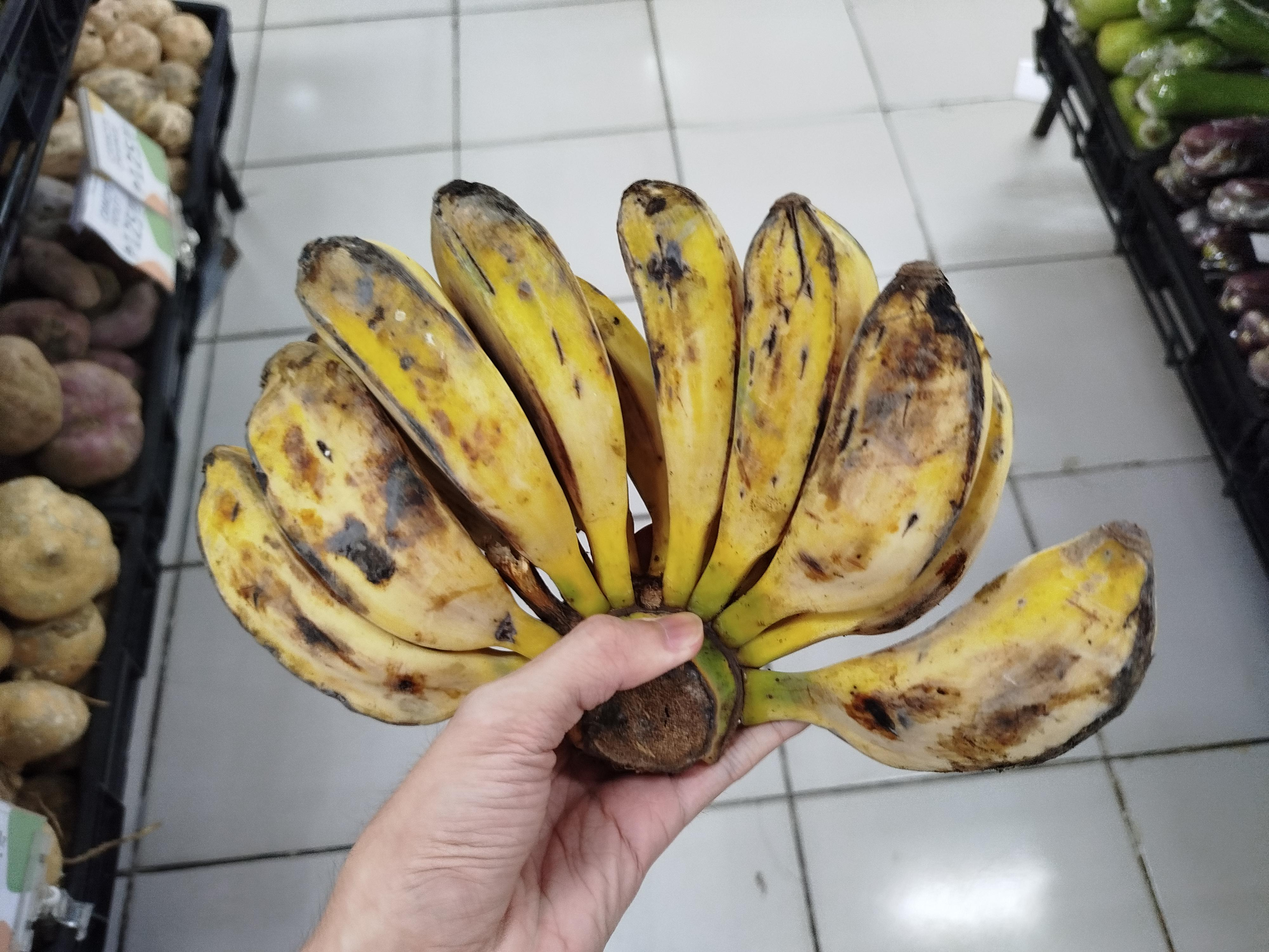ripe: (200, 180, 1011, 723)
